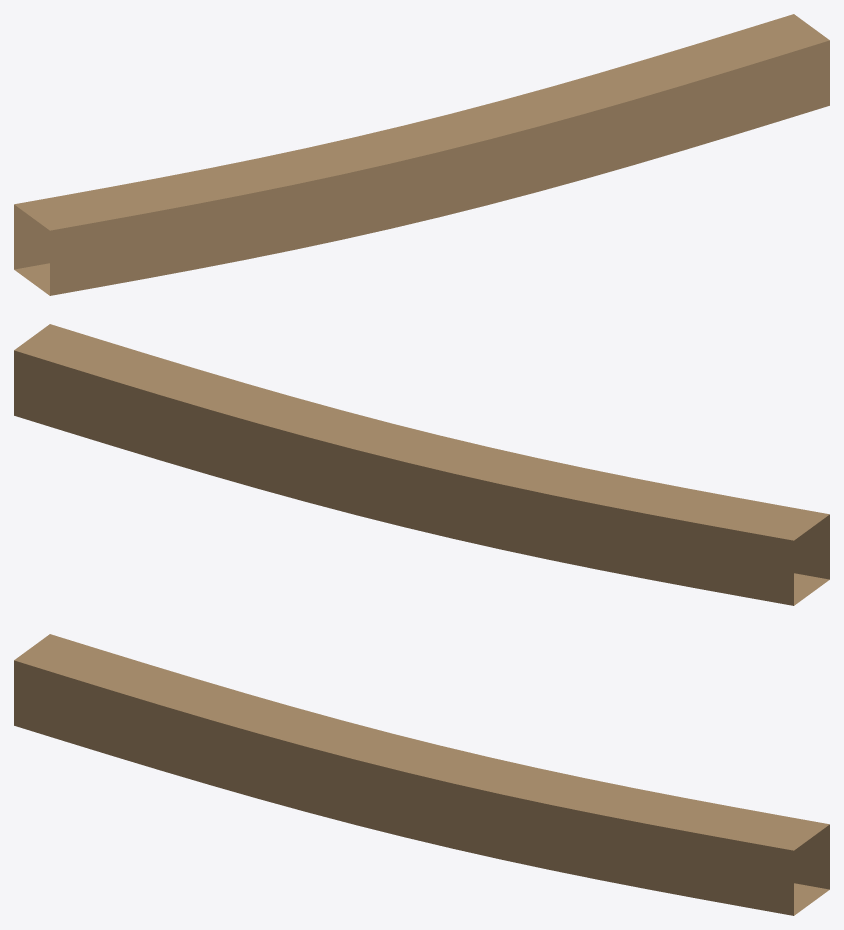
File: timber_beam.glb
The picture shows the model from 3 angles, top to bottom: view 1: azimuth 30°, elevation 25°; view 2: azimuth 150°, elevation 25°; view 3: azimuth 330°, elevation 25°; orthographic projection.
Parts seen in each view (by area): view 1: timber_beam; view 2: timber_beam; view 3: timber_beam.
Part boxes in pixels (x1,y1,x2,y2): timber_beam: (14, 14, 829, 295); timber_beam: (14, 324, 829, 605); timber_beam: (14, 634, 829, 915).
Bounding box in the file's own units: 4 × 0.4 × 0.32.
